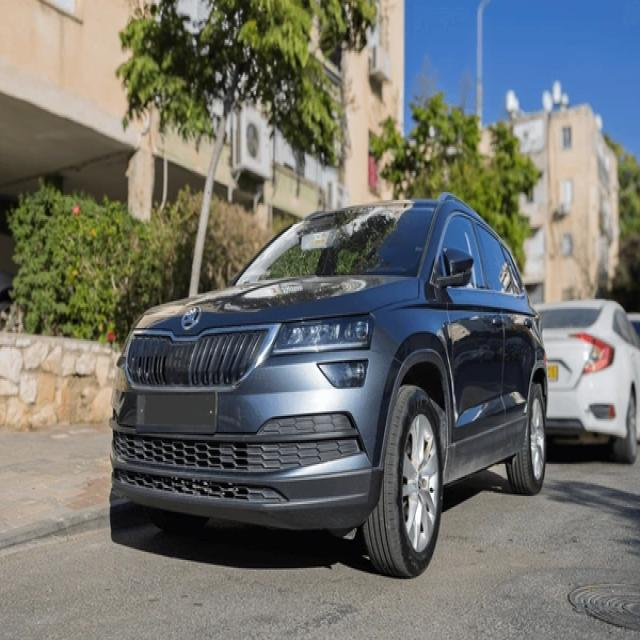skoda: (178, 305, 205, 331)
